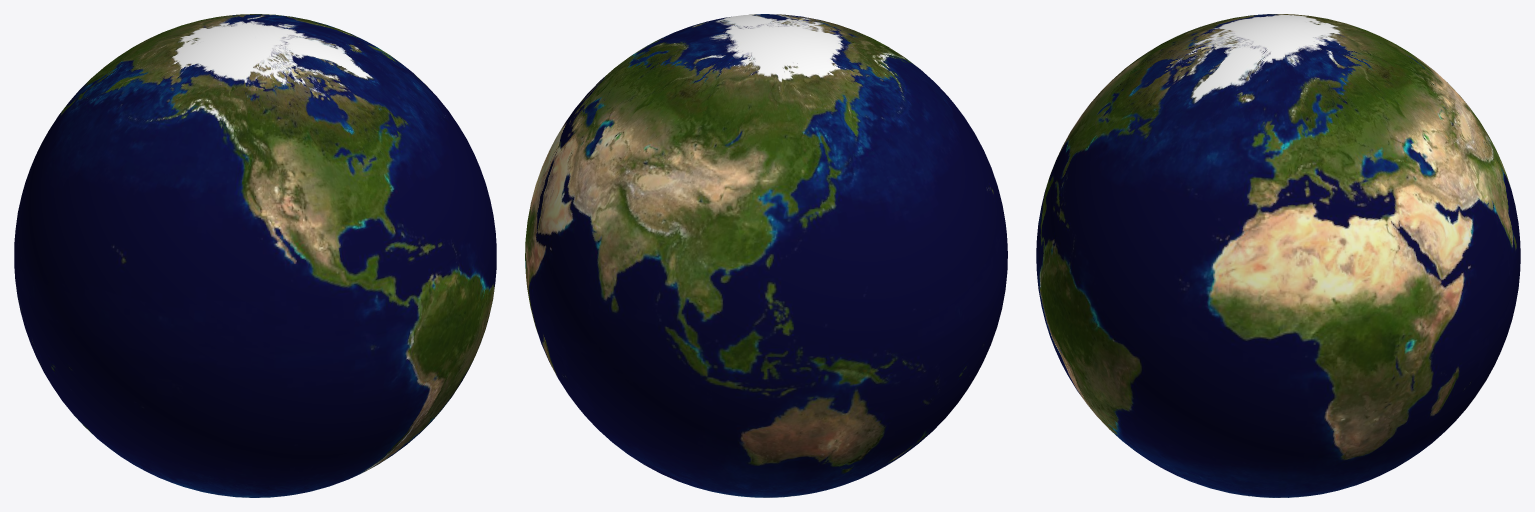
Rendered from EarthModel.fbx.
3 views of the same model, side by side, from view 1: azimuth 30°, elevation 25°; view 2: azimuth 150°, elevation 25°; view 3: azimuth 270°, elevation 25° (orthographic).
Parts seen in each view (by area): view 1: Sphere; view 2: Sphere; view 3: Sphere.
Part boxes in pixels (box(x1,y1,x2,y2)): Sphere: box(14, 14, 496, 497); Sphere: box(525, 14, 1007, 497); Sphere: box(1036, 14, 1520, 497).
Bounding box in the file's own units: 1.99 × 2 × 2.
Materials: 1 (1 with a texture image).
